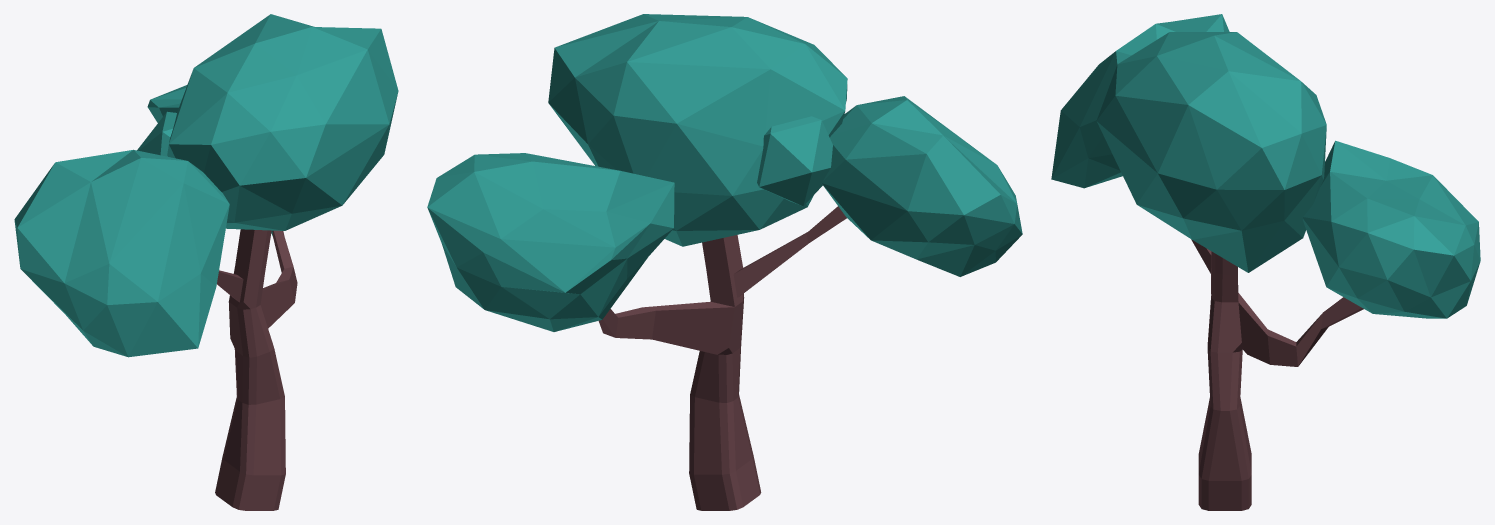
Rendered from bilun - tree 2.fbx.
3 renders of one model, left to right at view 1: azimuth 30°, elevation 25°; view 2: azimuth 150°, elevation 25°; view 3: azimuth 270°, elevation 25°, orthographic.
Parts seen in each view (by area): view 1: Plane; view 2: Plane; view 3: Plane.
Boxes of the visible parts, x1,y1,x2,y2 form: Plane: (14, 14, 398, 510); Plane: (427, 14, 1022, 510); Plane: (1051, 14, 1480, 510).
Size of the model in its own units: 663 by 655 by 547.
